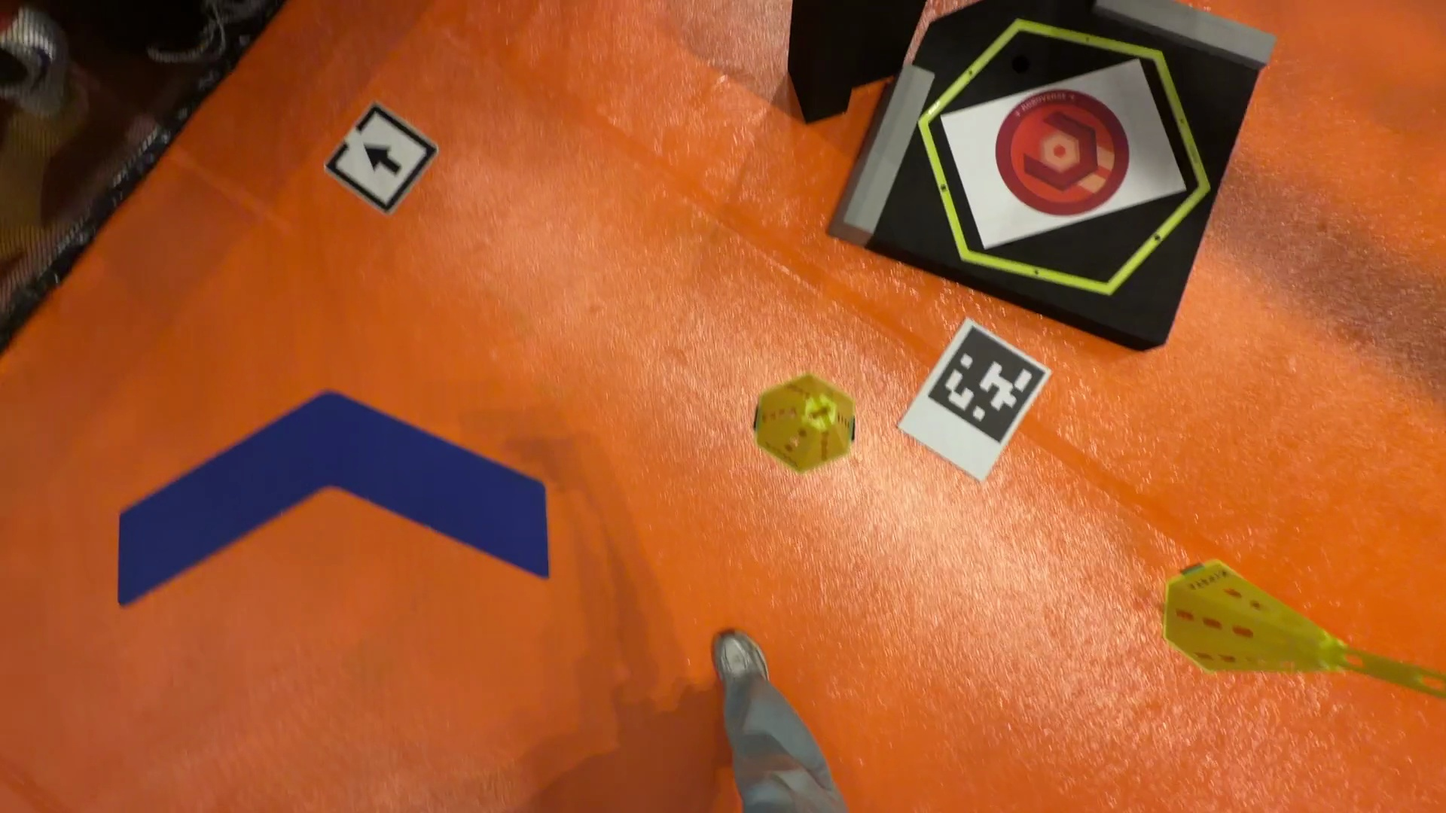landing_pad: (996, 92, 1130, 217)
